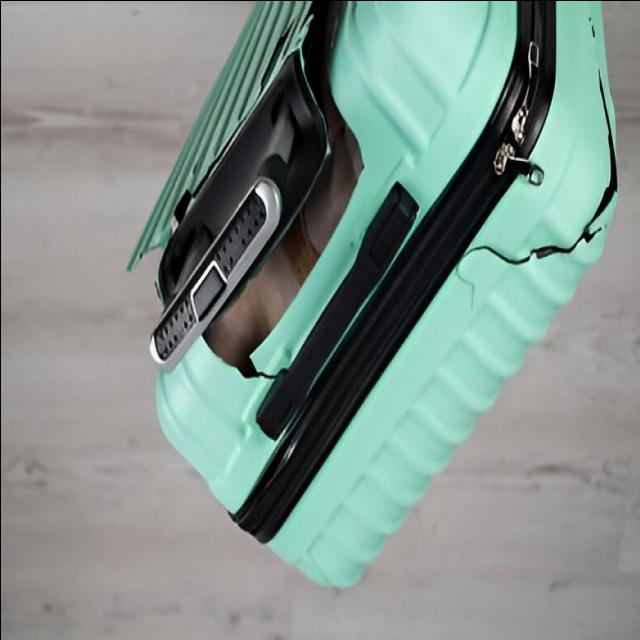Damage-bag: (202, 1, 362, 381), (455, 70, 616, 312), (128, 113, 236, 269), (227, 102, 254, 140)
